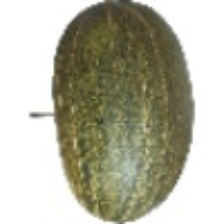honeydew: (45, 28, 201, 224)
